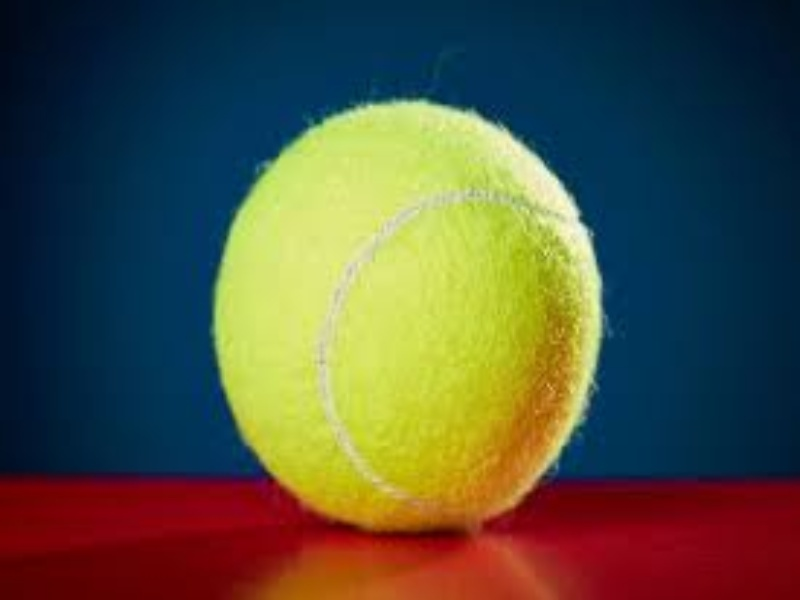tennis ball: (207, 92, 654, 538)
